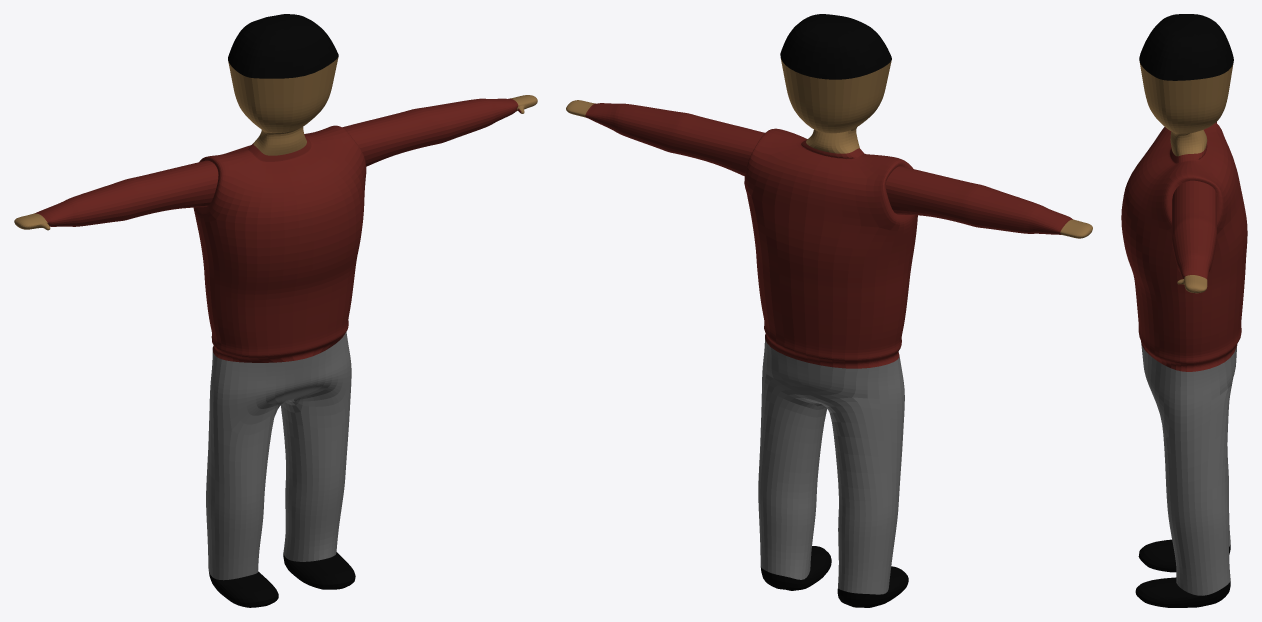
Rendered from Sivil erkek.fbx.
3 renders of one model, left to right at view 1: azimuth 30°, elevation 25°; view 2: azimuth 150°, elevation 25°; view 3: azimuth 270°, elevation 25°, orthographic.
Parts seen in each view (by area): view 1: Cylinder.003; view 2: Cylinder.003; view 3: Cylinder.003.
Boxes of the visible parts, x1,y1,x2,y2 form: Cylinder.003: (14, 14, 537, 607); Cylinder.003: (566, 14, 1092, 607); Cylinder.003: (1121, 14, 1247, 607).
Bounding box in the file's own units: 1121 × 1166 × 238.
